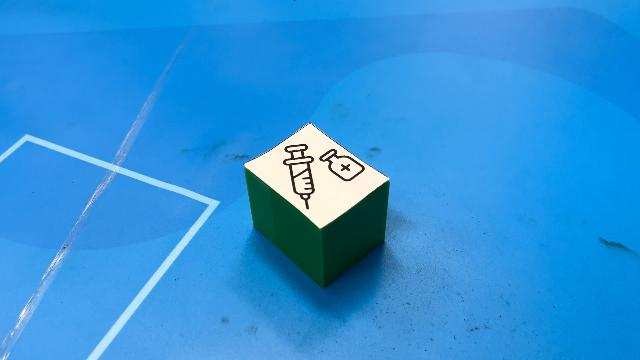syringe: (244, 121, 390, 288)
